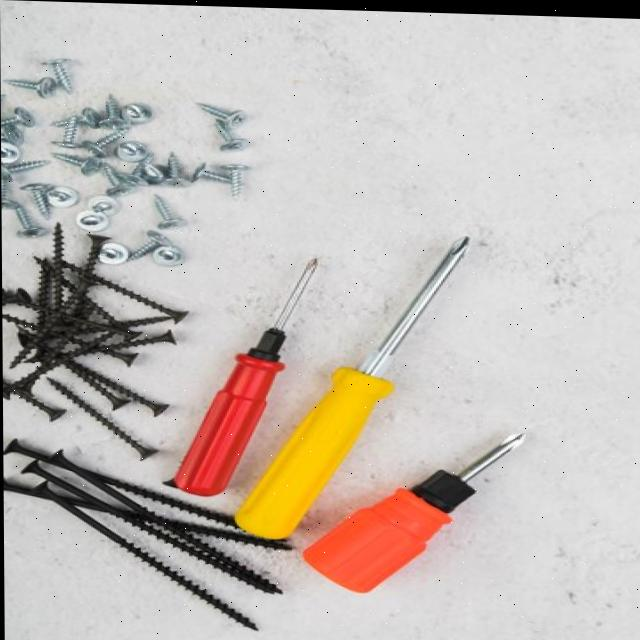Screwdriver: (235, 235, 468, 537), (164, 256, 318, 494), (303, 431, 522, 590)
